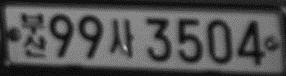0: (205, 18, 234, 64)
3: (145, 17, 173, 61)
4: (236, 19, 266, 65)
5: (177, 17, 204, 63)
9: (48, 13, 75, 58), (77, 14, 104, 59)
부산_V: (20, 12, 47, 58)
사: (109, 17, 136, 58)
